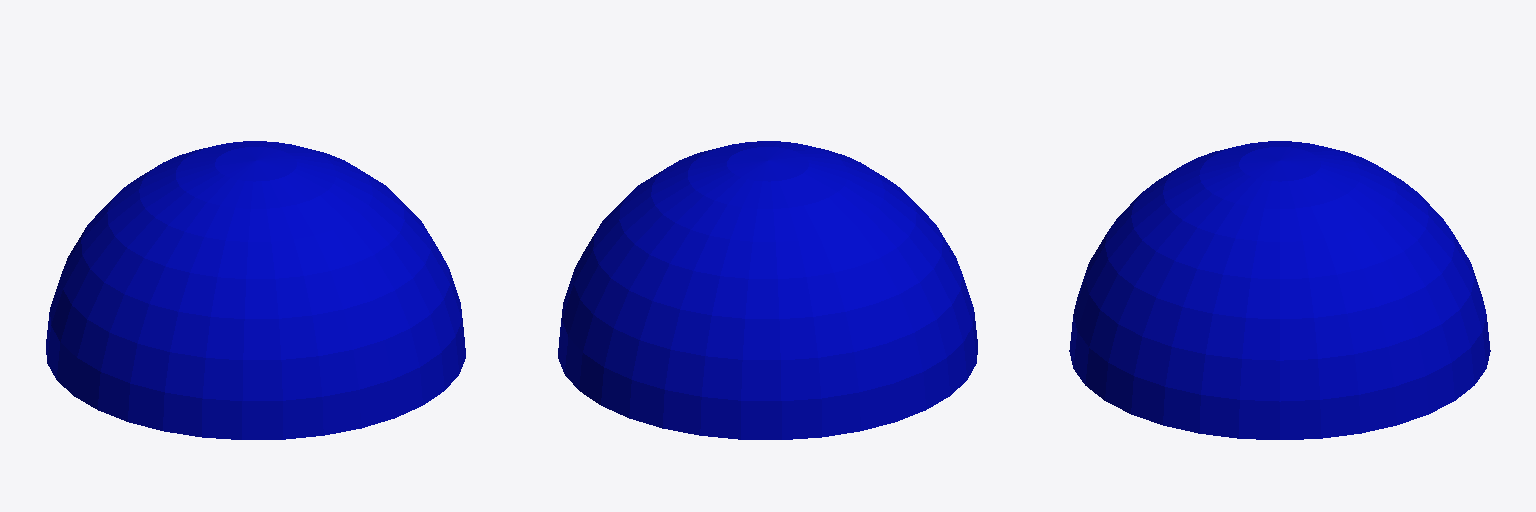
File: sky.obj
The picture shows the model from 3 angles: view 1: azimuth 30°, elevation 25°; view 2: azimuth 150°, elevation 25°; view 3: azimuth 270°, elevation 25°; orthographic projection.
Parts seen in each view (by area): view 1: Sphere; view 2: Sphere; view 3: Sphere.
Boxes of the visible parts, box(x1,y1,x2,y2) form: Sphere: box(46, 141, 465, 439); Sphere: box(558, 141, 977, 439); Sphere: box(1069, 141, 1490, 439).
Size of the model in its own units: 2 by 1 by 2.